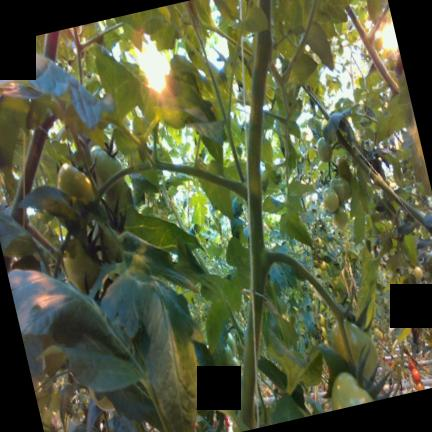6kp_peduncle: (248, 211, 338, 316), (332, 130, 349, 150)
6kp_petiole: (201, 147, 263, 234), (356, 18, 382, 67)
MainStem: (237, 0, 272, 427), (335, 131, 432, 237), (9, 111, 56, 227), (346, 6, 399, 94)
tomato: (330, 320, 378, 379), (64, 238, 100, 293), (332, 372, 373, 410), (57, 163, 94, 204), (90, 146, 122, 187), (102, 229, 122, 262), (323, 187, 339, 212), (316, 137, 332, 161), (336, 156, 351, 180), (330, 178, 345, 201), (225, 369, 237, 394), (334, 206, 347, 228), (340, 177, 351, 200), (226, 333, 236, 355), (224, 344, 233, 367), (231, 357, 240, 378), (411, 368, 420, 383), (414, 265, 423, 279), (408, 360, 416, 370), (315, 237, 322, 248), (321, 326, 327, 338), (373, 328, 380, 338), (320, 260, 327, 270), (320, 314, 325, 326), (416, 382, 423, 390), (378, 330, 383, 340), (318, 251, 324, 259), (312, 338, 318, 345), (324, 339, 328, 344)
